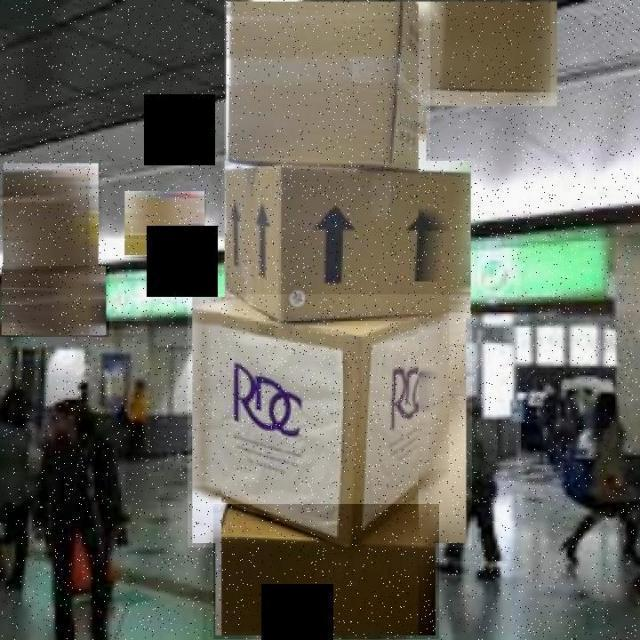box: (188, 294, 472, 548), (222, 158, 476, 322), (224, 0, 430, 169), (213, 504, 439, 639), (420, 0, 559, 109), (2, 162, 102, 274), (0, 266, 109, 337), (125, 192, 206, 260)
